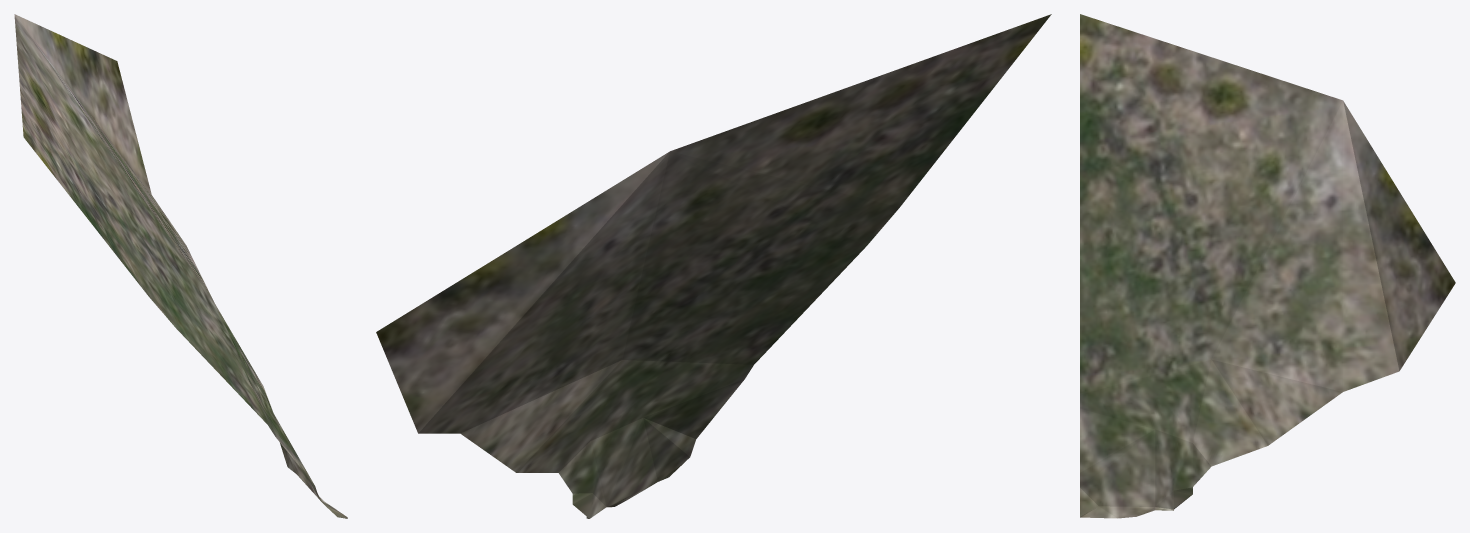
File: MODELO7.glb
The picture shows the model from 3 angles, left to right: view 1: azimuth 30°, elevation 25°; view 2: azimuth 150°, elevation 25°; view 3: azimuth 270°, elevation 25°; orthographic projection. The views are drawn at different scales.
Size of the model in its own units: 8.12 by 11.04 by 10.
Materials: 1 (1 with a texture image).
